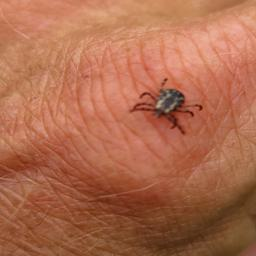Dermacentor variabilis: (145, 70, 212, 119)
